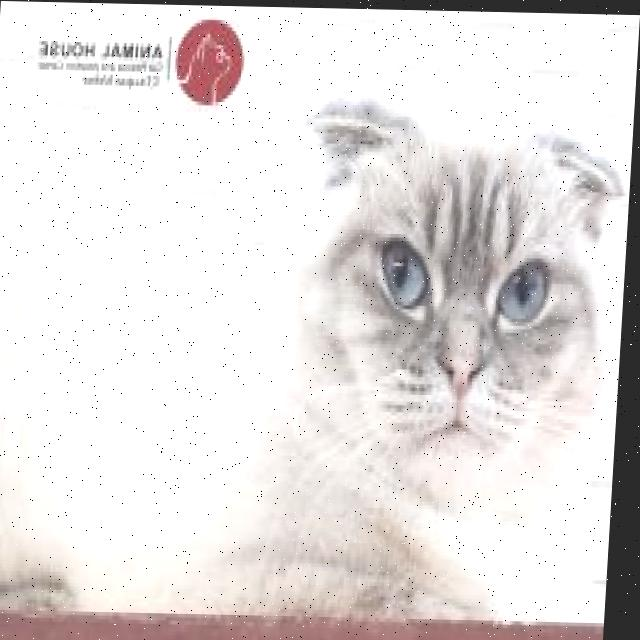Scottish Fold: (0, 82, 636, 627)
